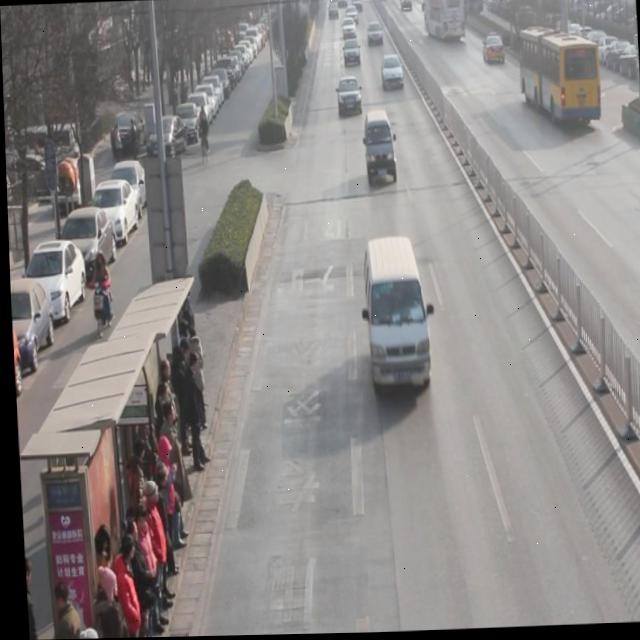car: (336, 77, 362, 119), (379, 56, 404, 93), (481, 36, 506, 68), (341, 38, 361, 69)
truck: (359, 235, 431, 399), (361, 111, 396, 188)
van: (514, 23, 599, 129)
